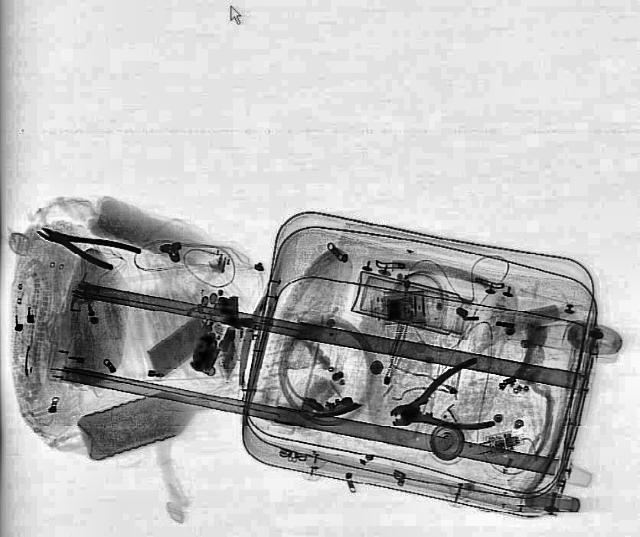Pliers: (376, 357, 506, 449), (30, 216, 142, 276)
